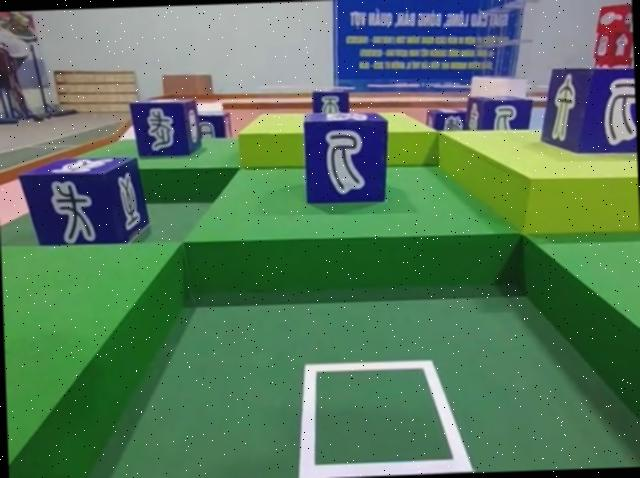R2 Fake Blue: (16, 157, 147, 251), (539, 64, 637, 158), (301, 111, 392, 207), (127, 101, 196, 161), (467, 94, 532, 139), (423, 102, 467, 146), (183, 109, 234, 145)
